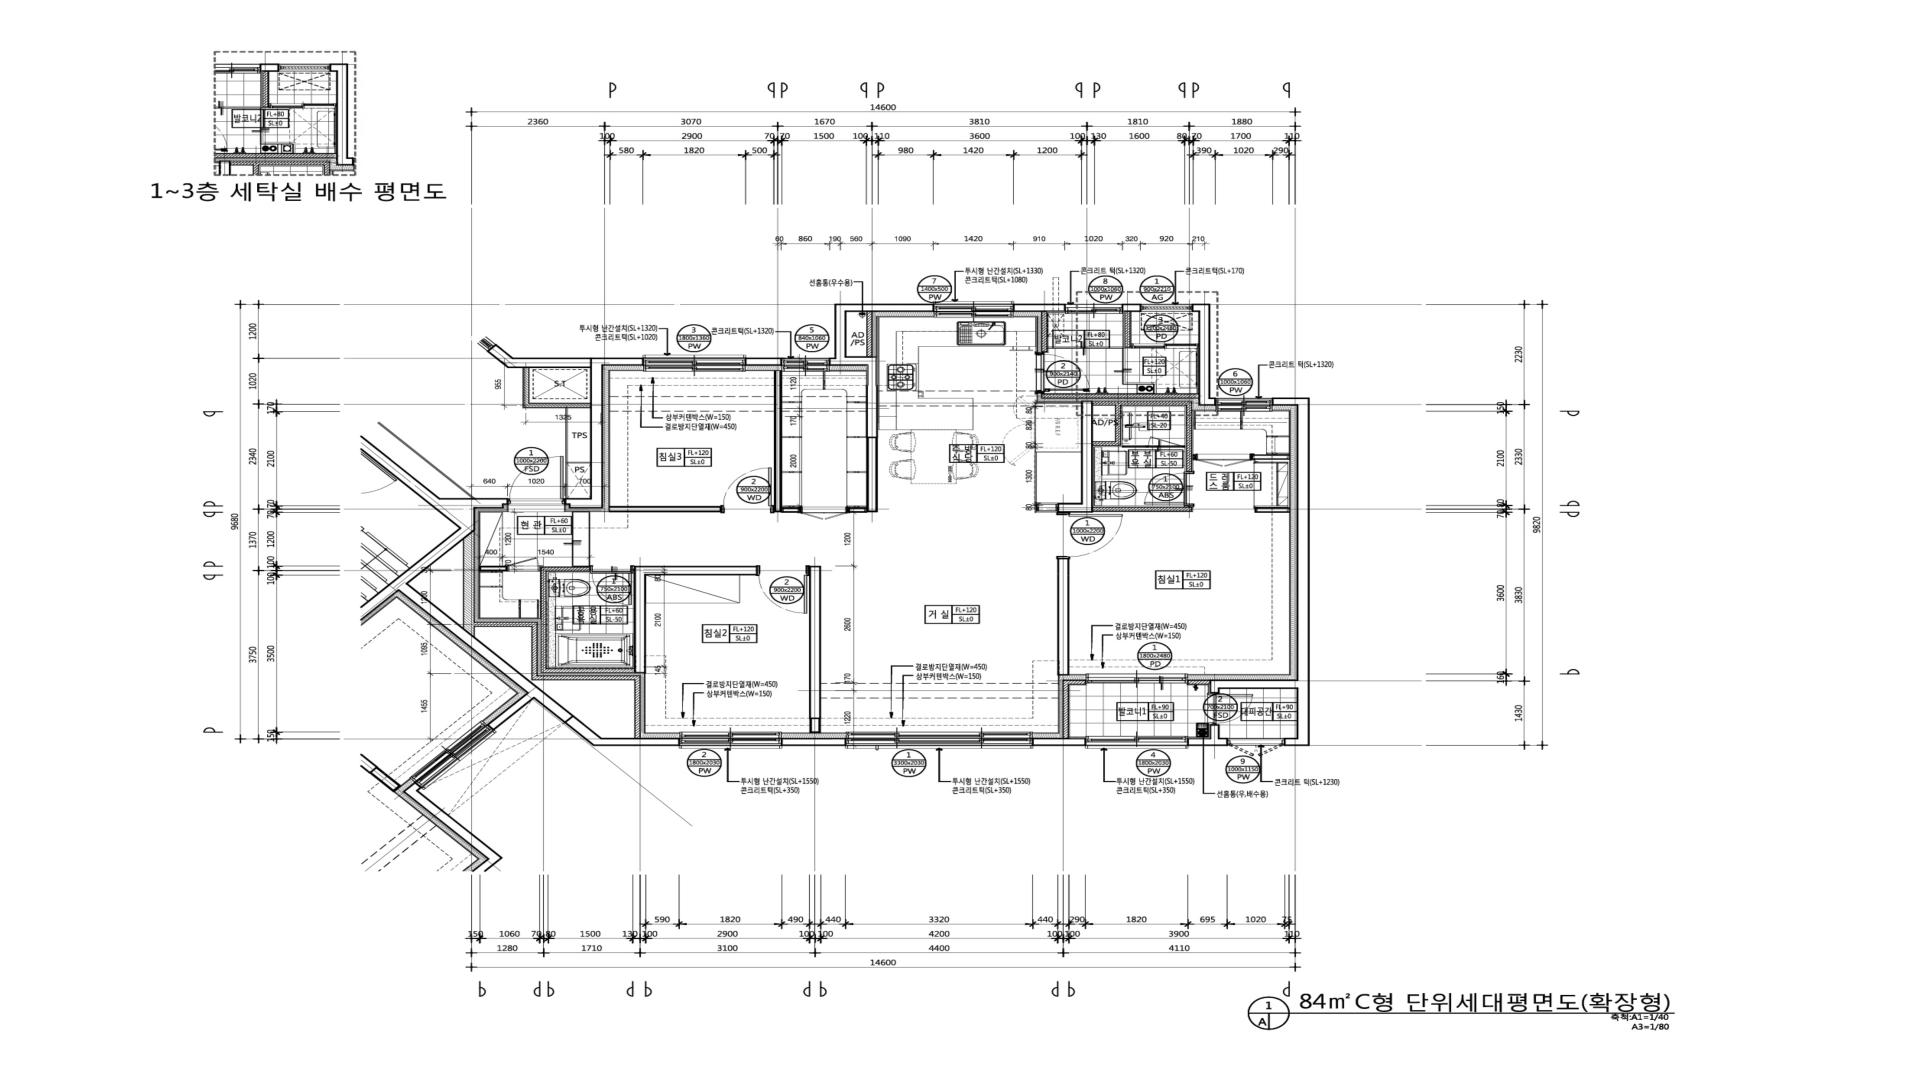door: (1056, 512, 1123, 560), (508, 456, 565, 504), (756, 565, 810, 614), (720, 467, 775, 513), (1035, 352, 1090, 394), (590, 565, 634, 606), (1144, 472, 1195, 507), (1207, 693, 1253, 725), (1192, 453, 1255, 469), (1122, 435, 1185, 447), (801, 506, 849, 520), (507, 557, 540, 572), (1131, 343, 1198, 349)
wall: (399, 583, 602, 746), (360, 528, 468, 621), (377, 422, 475, 498), (360, 435, 440, 505), (1297, 406, 1310, 738), (809, 566, 821, 719), (590, 358, 603, 498), (430, 498, 475, 536), (634, 566, 646, 673), (463, 531, 475, 637), (1058, 560, 1069, 675), (1081, 400, 1093, 503), (1210, 679, 1297, 693), (774, 371, 782, 512), (1198, 312, 1210, 398), (646, 566, 756, 575), (866, 438, 878, 512), (866, 366, 878, 438), (507, 358, 590, 368), (846, 303, 934, 312), (593, 738, 679, 746), (834, 304, 847, 356), (609, 506, 720, 512), (487, 344, 514, 368), (1042, 394, 1198, 398), (541, 567, 547, 669), (538, 675, 641, 680), (782, 738, 845, 746), (1093, 507, 1193, 512), (1093, 401, 1192, 406), (830, 356, 878, 366), (1033, 738, 1085, 746), (1014, 304, 1066, 312), (1186, 405, 1192, 472), (565, 498, 603, 508), (541, 669, 634, 673), (1058, 503, 1093, 513), (635, 680, 641, 738), (1272, 397, 1310, 406), (475, 498, 509, 508), (1188, 738, 1228, 746), (603, 358, 643, 366), (532, 627, 538, 680), (1063, 685, 1069, 738), (475, 622, 538, 627), (866, 312, 873, 357), (529, 403, 590, 408), (1041, 312, 1048, 352), (746, 358, 781, 366), (565, 407, 568, 498), (1125, 312, 1132, 347), (523, 368, 529, 408), (1115, 405, 1121, 441), (1255, 507, 1291, 513), (547, 567, 590, 572), (1255, 454, 1290, 460), (1284, 738, 1310, 746), (1035, 504, 1058, 512), (1122, 304, 1142, 312), (1209, 724, 1220, 738), (1192, 304, 1210, 312), (1198, 398, 1216, 406), (810, 719, 820, 733), (1093, 441, 1121, 446), (479, 566, 507, 571), (1188, 680, 1210, 686), (1063, 680, 1086, 685), (782, 507, 801, 513), (849, 507, 866, 513), (568, 462, 590, 464)
window: (845, 732, 1033, 749), (679, 732, 782, 749), (643, 355, 746, 372), (1085, 736, 1188, 749), (934, 301, 1014, 317), (1086, 674, 1188, 685), (1216, 398, 1272, 411), (781, 358, 830, 371), (1066, 304, 1122, 314), (1228, 739, 1284, 746), (1141, 304, 1192, 311)
